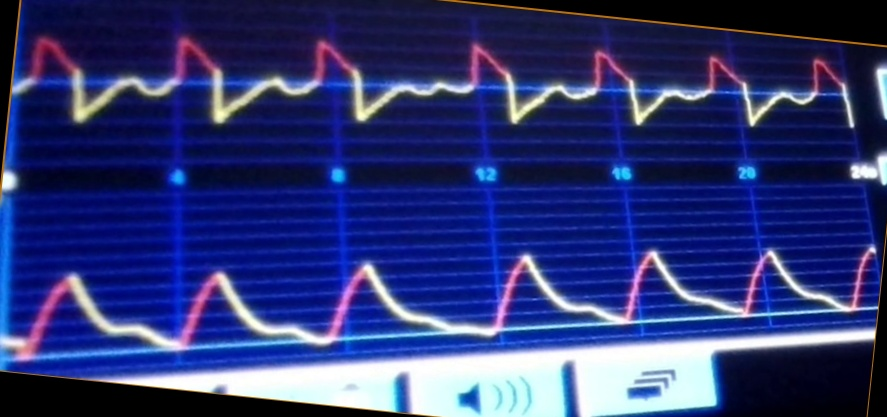Ineffective_effort Flow: (17, 31, 853, 149)
Ineffective_effort Volume: (10, 236, 873, 360)
